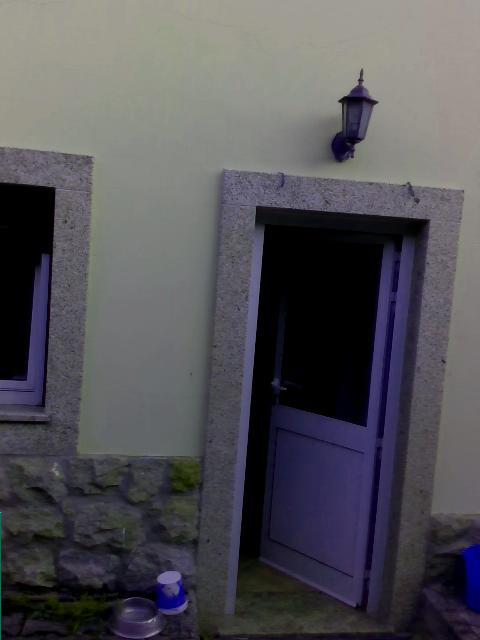semi_door: (225, 204, 429, 616)
